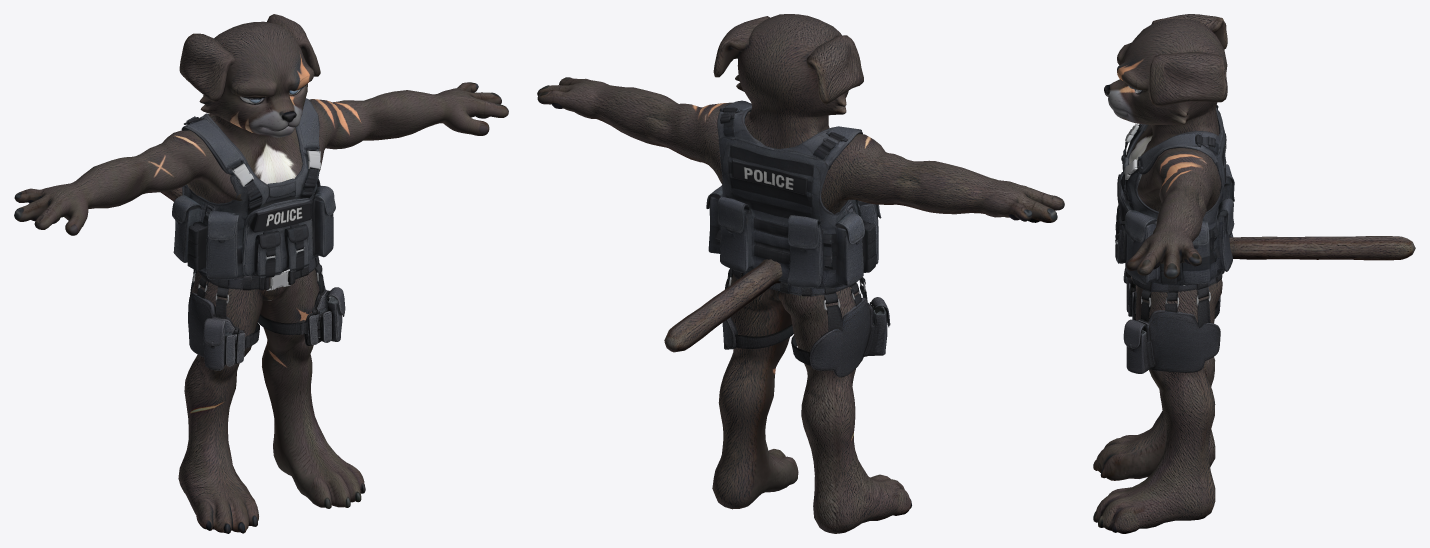
The model's file is 적npc1.fbx.
The picture shows the model from 3 angles, left to right: view 1: azimuth 30°, elevation 25°; view 2: azimuth 150°, elevation 25°; view 3: azimuth 270°, elevation 25°; orthographic projection. The views are drawn at different scales.
Visible parts, largest first — view 1: tripo_86260f23_45b7_45e6_a38a_0b6fd9fbd656, acaa4462_478d_4208_91f3_f7cd7074ab49, tripo_347fcf13_2a8a_41b9_a024_d4f3dc24f199; view 2: tripo_86260f23_45b7_45e6_a38a_0b6fd9fbd656, acaa4462_478d_4208_91f3_f7cd7074ab49, tripo_347fcf13_2a8a_41b9_a024_d4f3dc24f199; view 3: tripo_86260f23_45b7_45e6_a38a_0b6fd9fbd656, acaa4462_478d_4208_91f3_f7cd7074ab49, tripo_347fcf13_2a8a_41b9_a024_d4f3dc24f199.
Part boxes in pixels (x1,y1,x2,y2): tripo_86260f23_45b7_45e6_a38a_0b6fd9fbd656: [14, 14, 508, 533]; acaa4462_478d_4208_91f3_f7cd7074ab49: [172, 98, 335, 279]; tripo_347fcf13_2a8a_41b9_a024_d4f3dc24f199: [188, 256, 345, 370]; tripo_86260f23_45b7_45e6_a38a_0b6fd9fbd656: [537, 14, 1064, 533]; acaa4462_478d_4208_91f3_f7cd7074ab49: [706, 100, 881, 288]; tripo_347fcf13_2a8a_41b9_a024_d4f3dc24f199: [722, 268, 890, 377]; tripo_86260f23_45b7_45e6_a38a_0b6fd9fbd656: [1093, 14, 1415, 533]; acaa4462_478d_4208_91f3_f7cd7074ab49: [1115, 105, 1234, 285]; tripo_347fcf13_2a8a_41b9_a024_d4f3dc24f199: [1123, 263, 1224, 373].
Bounding box in the file's own units: 99.95 × 91.85 × 56.69.
3 materials, 3 textured.
